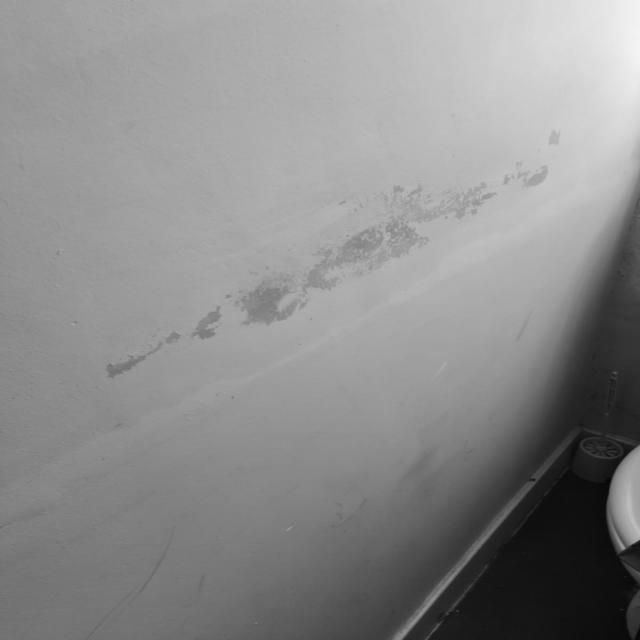stain marks: (4, 10, 637, 124), (0, 118, 143, 473), (132, 128, 283, 413), (311, 398, 481, 594), (0, 507, 227, 640), (283, 126, 413, 354), (412, 119, 553, 288), (557, 115, 635, 219), (504, 302, 550, 364)
